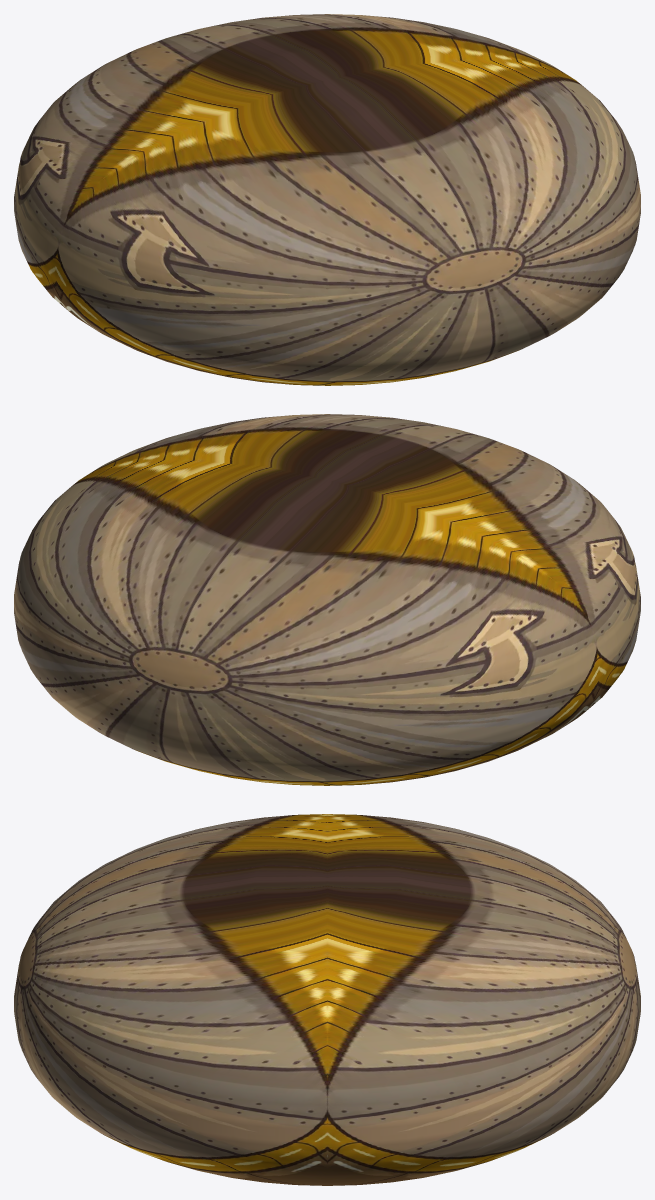
The model's file is radial_deck.glb.
The picture shows the model from 3 angles, top to bottom: view 1: azimuth 30°, elevation 25°; view 2: azimuth 150°, elevation 25°; view 3: azimuth 270°, elevation 25°; orthographic projection.
Parts seen in each view (by area): view 1: radial_deck; view 2: radial_deck; view 3: radial_deck.
Boxes of the visible parts, box(x1,y1,x2,y2) form: radial_deck: box(14, 14, 640, 385); radial_deck: box(14, 414, 640, 785); radial_deck: box(14, 814, 640, 1185).
Size of the model in its own units: 1 by 0.4159 by 1.
Materials: 1 (1 with a texture image).
